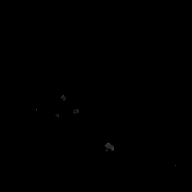v: (52, 91, 80, 118)
